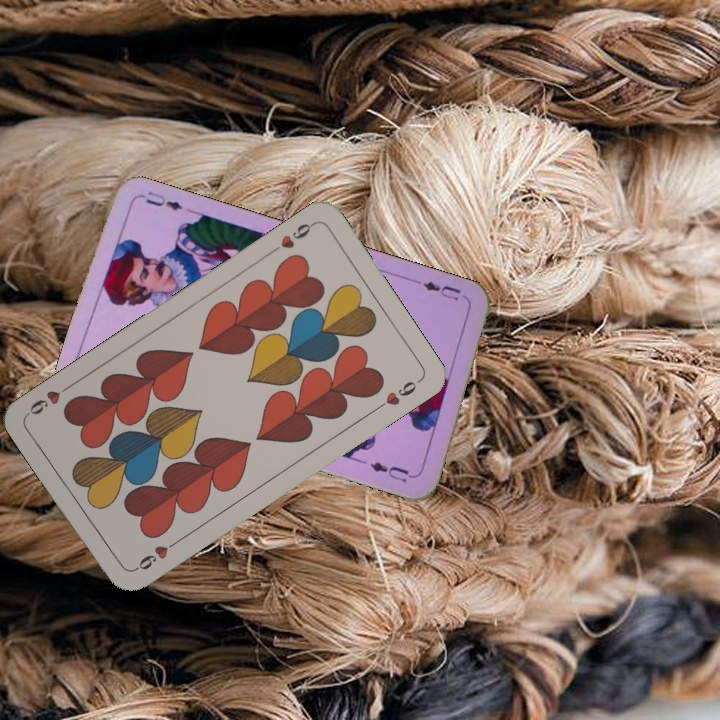EU: (419, 277, 463, 304)
H9: (266, 218, 318, 257), (129, 536, 181, 575)
